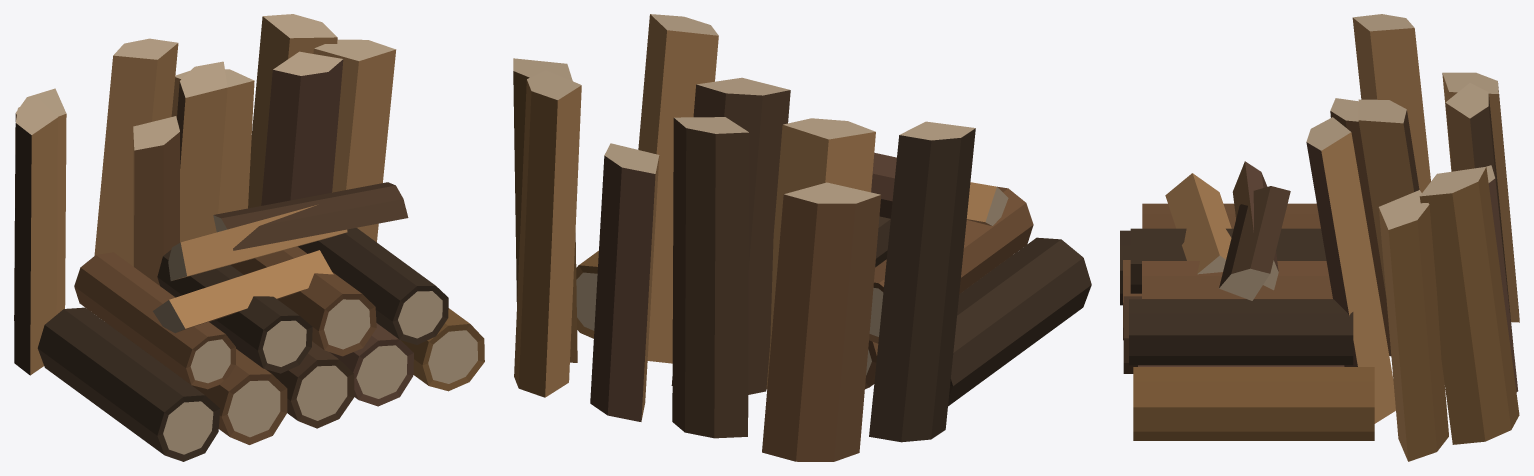
File: mdvl_interiors_woodpile_01.glb
The picture shows the model from 3 angles, left to right: view 1: azimuth 30°, elevation 25°; view 2: azimuth 150°, elevation 25°; view 3: azimuth 270°, elevation 25°; orthographic projection. The views are drawn at different scales.
Visible parts, largest first — view 1: mdvl_interiors_woodpile_01; view 2: mdvl_interiors_woodpile_01; view 3: mdvl_interiors_woodpile_01.
Part boxes in pixels (bbox=[...]): mdvl_interiors_woodpile_01: bbox=[14, 14, 484, 461]; mdvl_interiors_woodpile_01: bbox=[513, 14, 1091, 461]; mdvl_interiors_woodpile_01: bbox=[1120, 14, 1519, 461].
Bounding box in the file's own units: 1.02 × 0.6963 × 0.8928.
Materials: 1 (1 with a texture image).
